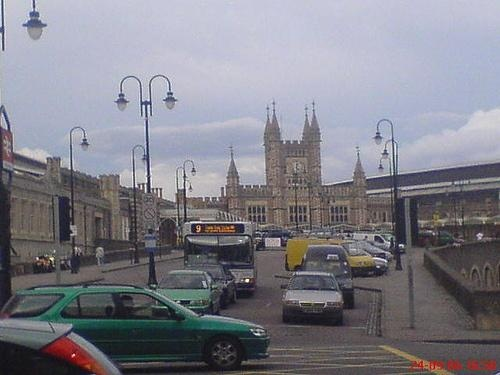bus: (184, 222, 258, 298)
car: (7, 284, 271, 371), (4, 319, 123, 375), (282, 238, 378, 277), (302, 247, 355, 309), (283, 272, 344, 325), (158, 273, 217, 317), (185, 265, 237, 308), (356, 232, 406, 256), (355, 241, 391, 262)
